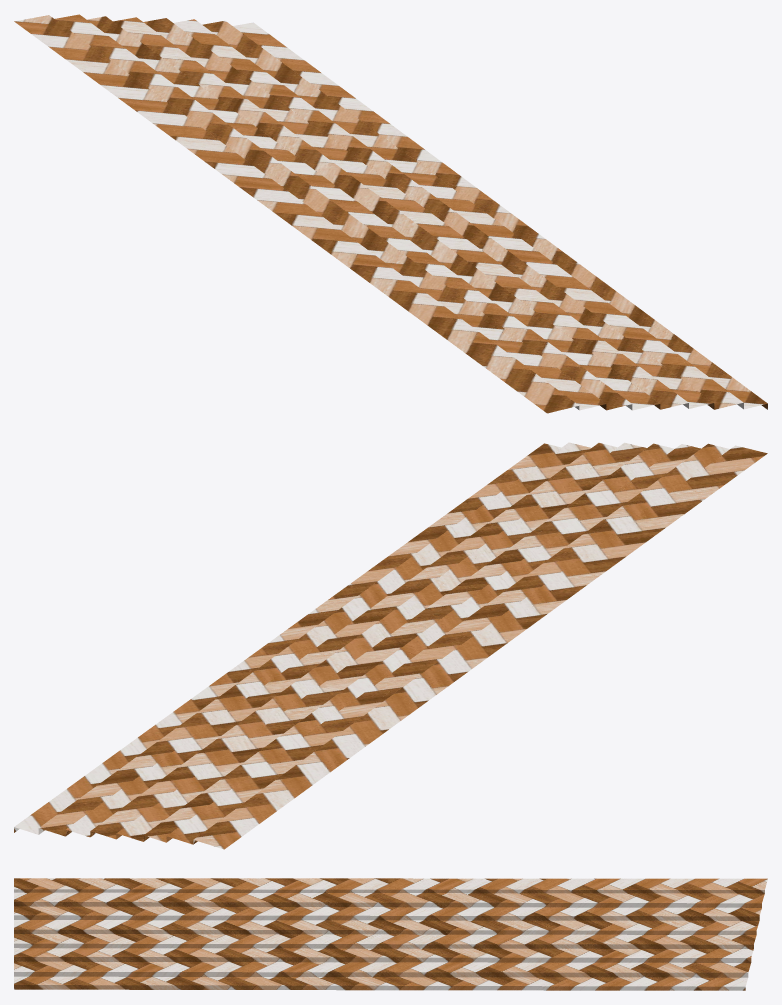
File: MDL_StairsLarge.fbx
3 views of the same model, one above another, from view 1: azimuth 30°, elevation 25°; view 2: azimuth 150°, elevation 25°; view 3: azimuth 270°, elevation 25° (orthographic). The views are drawn at different scales.
Visible parts, largest first — view 1: StairsLarge; view 2: StairsLarge; view 3: StairsLarge.
Part boxes in pixels (bbox=[...]): StairsLarge: bbox=[14, 14, 767, 413]; StairsLarge: bbox=[14, 442, 767, 849]; StairsLarge: bbox=[14, 878, 767, 990].
Bounding box in the file's own units: 272 × 58.28 × 1120.
